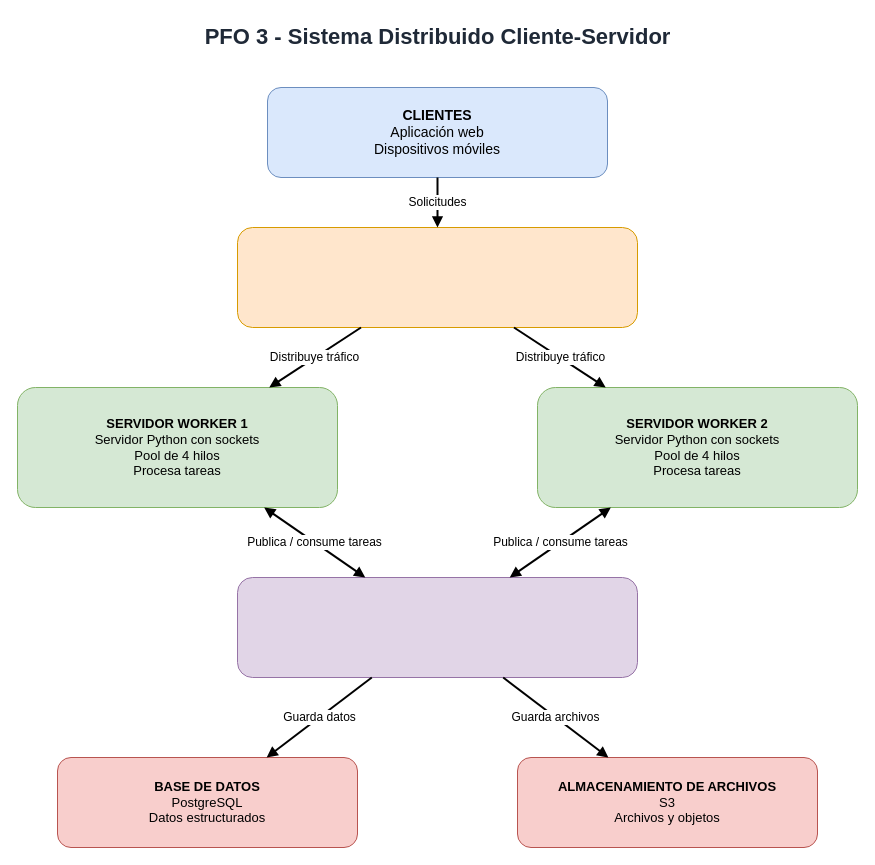
Some shapes in this 875 by 865 pixel diagram are drawn without their labels. The shapes that lost their labels are listed below. From the top down, each one's box as (x1, y1, x2, y2) in pixels, then its label:
(236, 226, 638, 328): BALANCEADOR DE CARGA Nginx / HAProxy Distribuye las solicitudes
(236, 576, 638, 678): COLA DE MENSAJES RabbitMQ Comunicación asíncrona entre servicios
